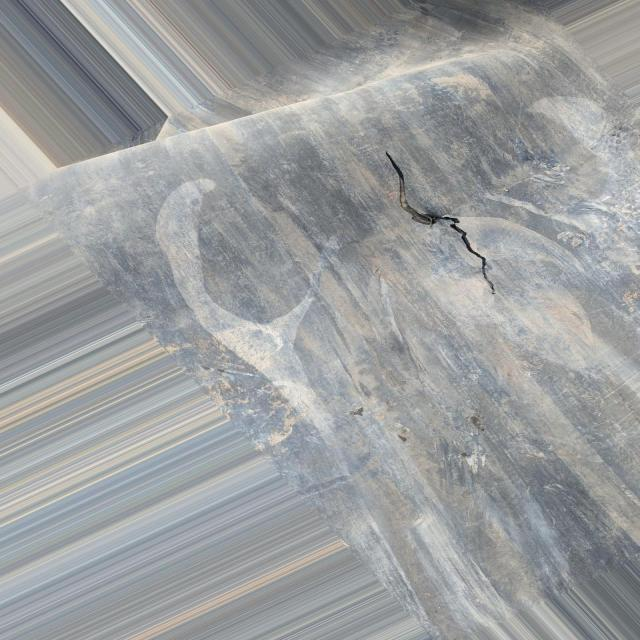Tear: (382, 133, 507, 304)
